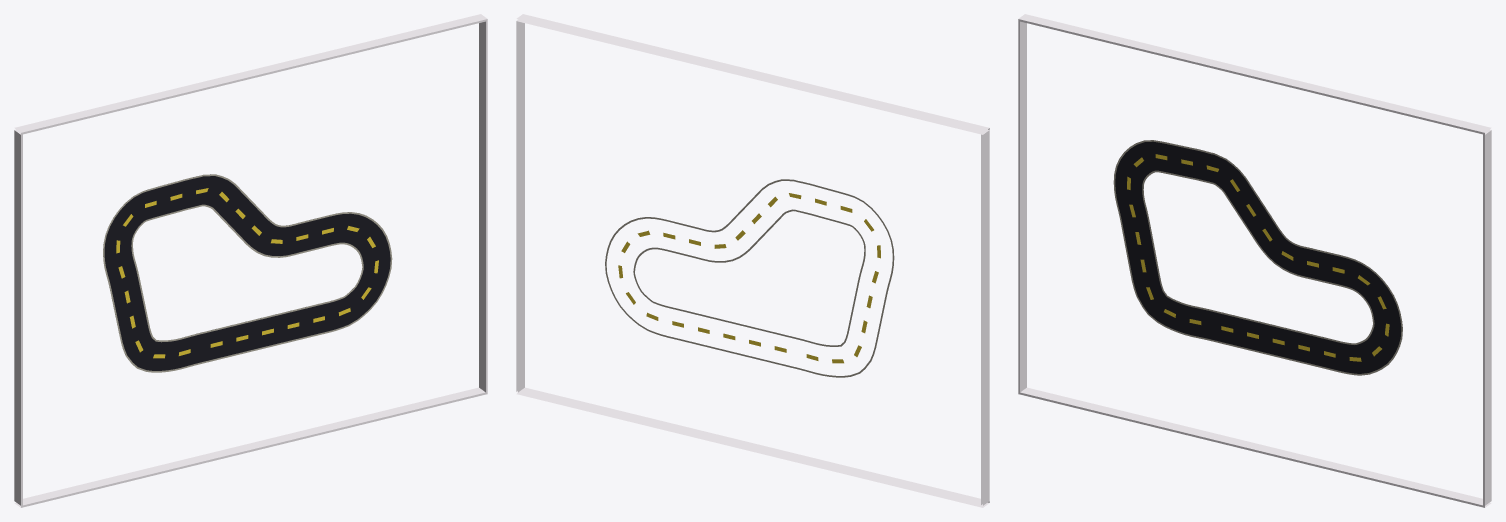
Rendered from track.obj.
3 views of the same model, side by side, from view 1: azimuth 30°, elevation 25°; view 2: azimuth 150°, elevation 25°; view 3: azimuth 330°, elevation 25° (orthographic).
Size of the model in its own units: 11.84 by 9.09 by 0.3.
